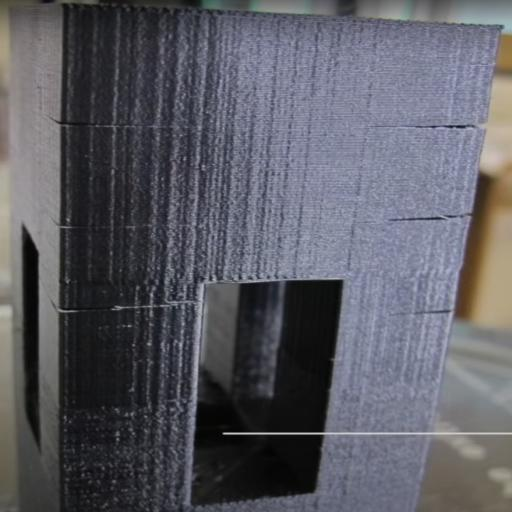cracks: (374, 114, 507, 153), (370, 194, 482, 240), (388, 306, 476, 354)
